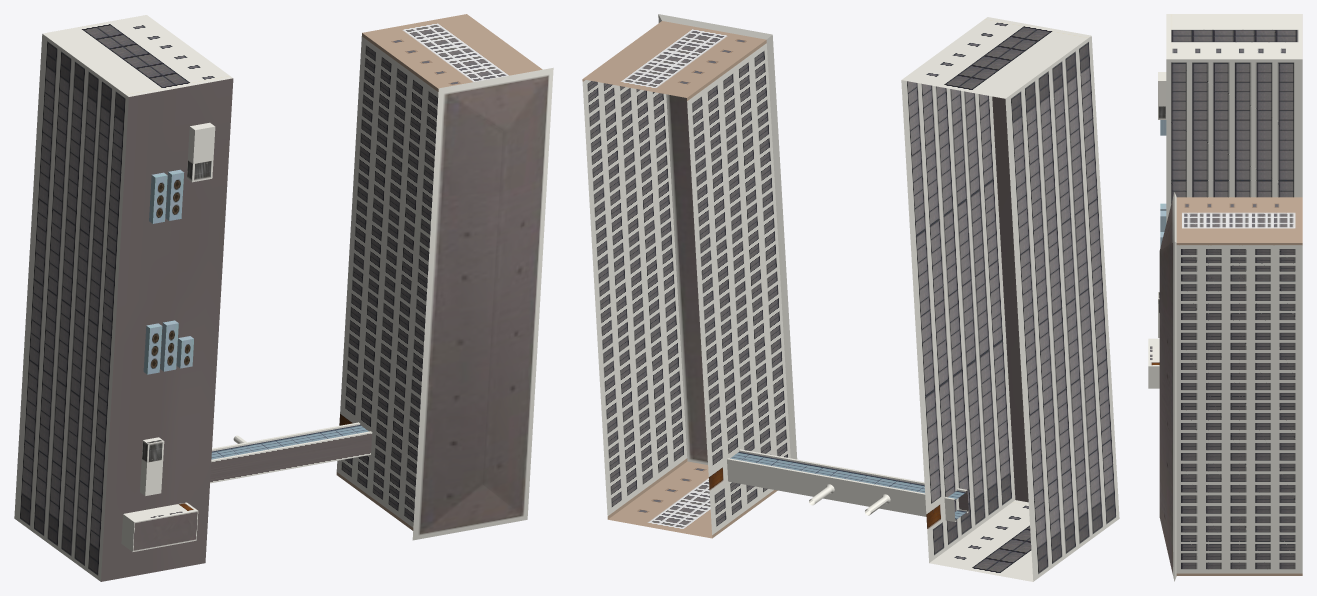
The model's file is DEU_BL0405_KARLSRUHE_V_D_L_UND_D_BUNDES_S.OBJ.
3 renders of one model, left to right at view 1: azimuth 30°, elevation 25°; view 2: azimuth 150°, elevation 25°; view 3: azimuth 270°, elevation 25°, orthographic. The views are drawn at different scales.
Parts seen in each view (by area): view 1: Standard; view 2: Standard; view 3: Standard.
Part boxes in pixels (<box>): Standard: <box>14,14,553,581</box>; Standard: <box>582,14,1119,581</box>; Standard: <box>1148,14,1302,581</box>.
Size of the model in its own units: 67.92 by 74.43 by 25.19.
1 material, 1 textured.
